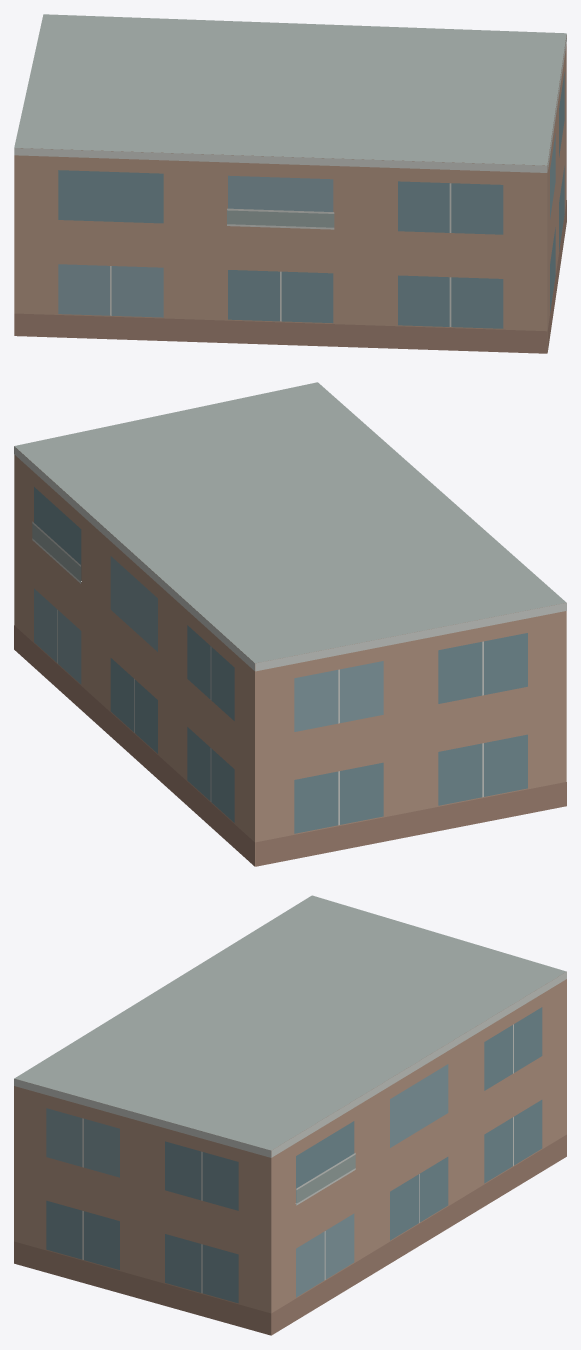
Rendered from survey-upis-32540213.glb.
3 renders of one model, top to bottom at view 1: azimuth 30°, elevation 25°; view 2: azimuth 150°, elevation 25°; view 3: azimuth 270°, elevation 25°, orthographic. The views are drawn at different scales.
Visible parts, largest first — view 1: survey-upis-32540213.tmp; view 2: survey-upis-32540213.tmp; view 3: survey-upis-32540213.tmp.
Part boxes in pixels (x1,y1,x2,y2): survey-upis-32540213.tmp: [14, 14, 566, 353]; survey-upis-32540213.tmp: [14, 382, 566, 866]; survey-upis-32540213.tmp: [14, 895, 566, 1335].
Bounding box in the file's own units: 18.06 × 6.1 × 16.53.
